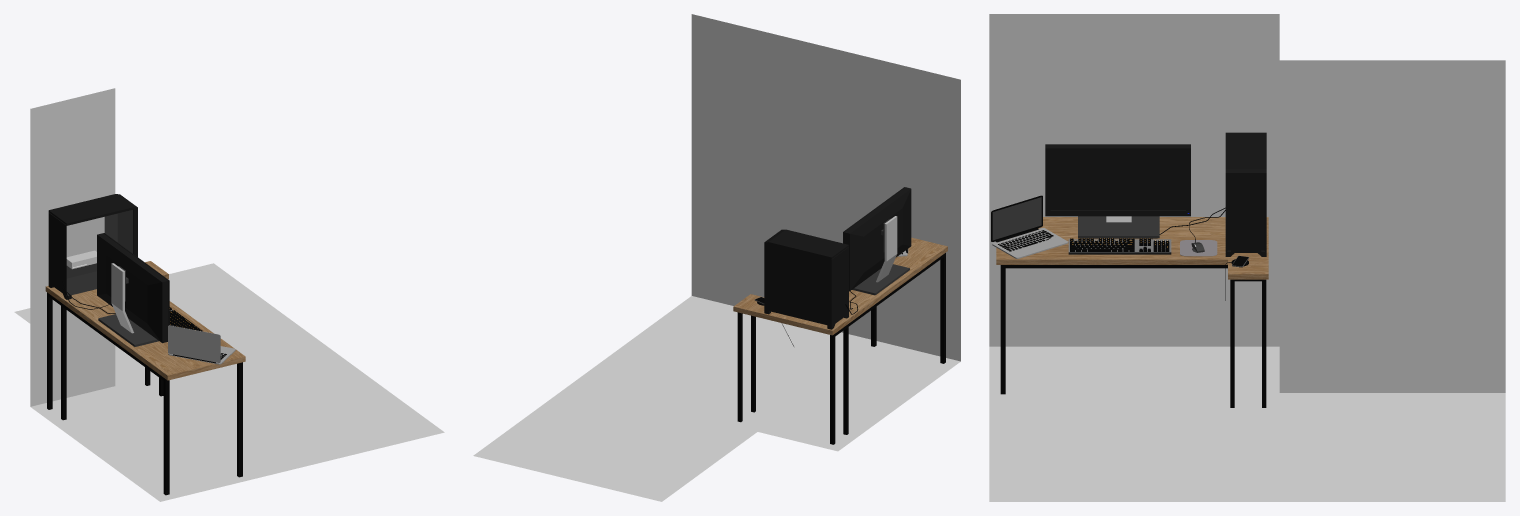
The model's file is portfolio2.gltf.
The picture shows the model from 3 angles, left to right: view 1: azimuth 30°, elevation 25°; view 2: azimuth 150°, elevation 25°; view 3: azimuth 270°, elevation 25°; orthographic projection. The views are drawn at different scales.
Parts seen in each view (by area): view 1: Walls.001, PC, Monitor, Table, Table Stands, PCGlass, MonitorStand, LaptopScreen, Motherboard; view 2: Walls.001, PC, Table Stands, Monitor, Table, MonitorStand; view 3: Walls.001, Monitor, Table, PC, Table Stands, MonitorStand, LaptopScreen, Key (3rd row), LaptopBase, KeyboardBase.
Boxes of the visible parts, x1,y1,x2,y2 form: Walls.001: [14, 88, 444, 501]; PC: [48, 194, 137, 299]; Monitor: [97, 233, 169, 343]; Table: [45, 261, 245, 380]; Table Stands: [47, 292, 242, 495]; PCGlass: [67, 210, 132, 295]; MonitorStand: [98, 263, 158, 346]; LaptopScreen: [168, 325, 220, 362]; Motherboard: [66, 217, 104, 257]; Walls.001: [473, 14, 960, 501]; PC: [764, 229, 848, 329]; Table Stands: [737, 253, 945, 444]; Monitor: [843, 187, 911, 291]; Table: [733, 237, 947, 335]; MonitorStand: [852, 216, 909, 295]; Walls.001: [989, 14, 1505, 501]; Monitor: [1045, 144, 1190, 216]; Table: [996, 217, 1268, 279]; PC: [1225, 132, 1266, 256]; Table Stands: [1000, 265, 1266, 407]; MonitorStand: [1078, 216, 1159, 238]; LaptopScreen: [991, 195, 1042, 241]; Key (3rd row): [1070, 238, 1169, 251]; LaptopBase: [992, 228, 1068, 258]; KeyboardBase: [1068, 239, 1171, 254].
Size of the model in its own units: 9.78 by 9.8 by 13.76.
26 materials, 1 textured.
